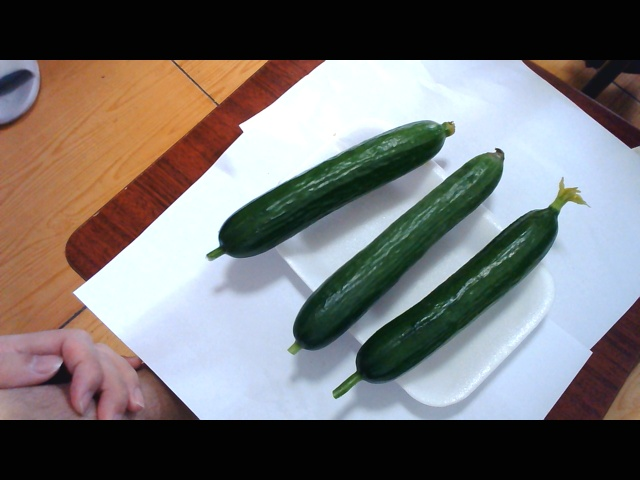cucumber: (230, 116, 557, 368)
